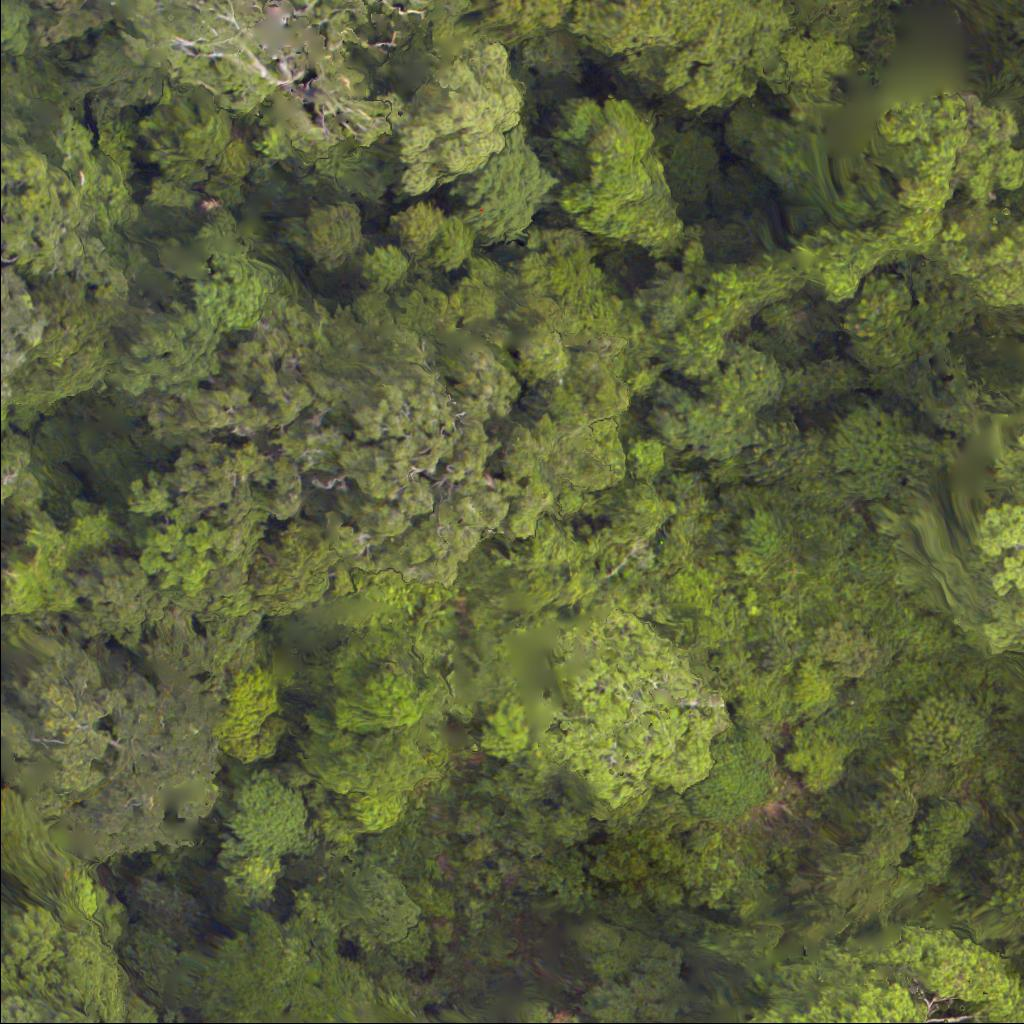crown: (137, 294, 535, 603), (483, 589, 737, 860), (806, 104, 1023, 305), (745, 925, 1023, 1023), (954, 427, 1023, 666), (0, 994, 127, 1023), (321, 1018, 395, 1023)
